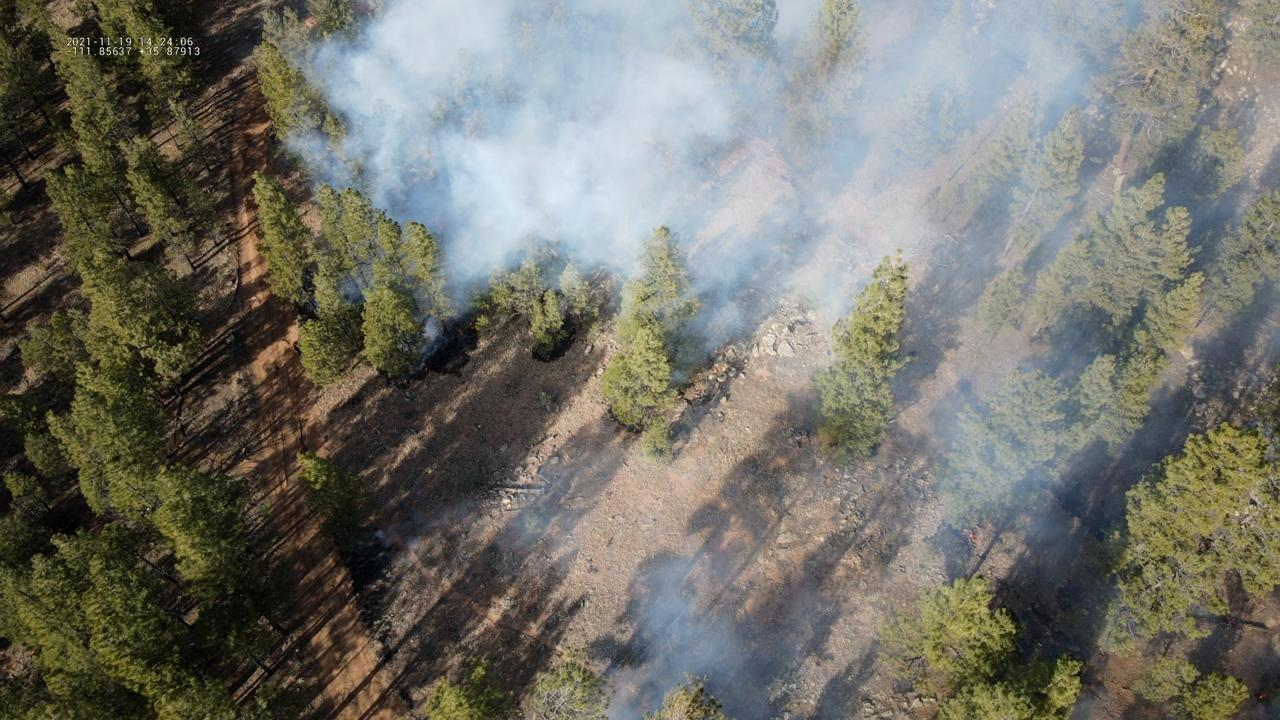fire: (969, 532, 978, 545), (469, 318, 475, 330), (1258, 694, 1264, 699)
smoke: (275, 1, 1280, 556), (580, 552, 819, 720), (358, 513, 433, 559)
